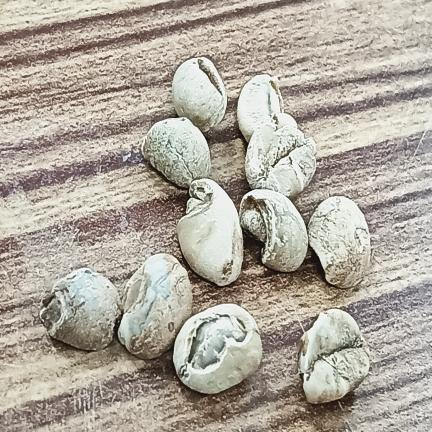broken: (173, 304, 262, 394), (118, 253, 192, 359), (177, 178, 243, 286), (298, 309, 370, 403), (40, 268, 120, 351), (308, 196, 371, 288), (239, 189, 308, 272), (245, 123, 316, 198), (142, 117, 211, 187), (172, 57, 227, 132), (237, 74, 282, 142)
